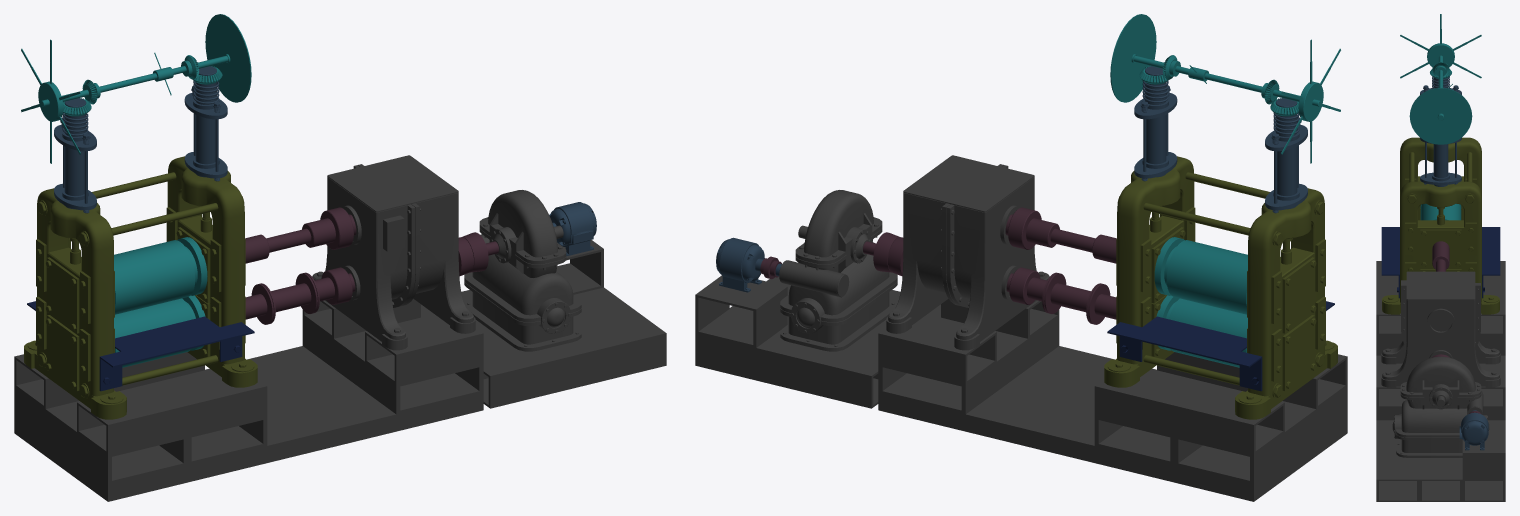
Rendered from StanNew.glb.
3 renders of one model, left to right at view 1: azimuth 30°, elevation 25°; view 2: azimuth 150°, elevation 25°; view 3: azimuth 270°, elevation 25°, orthographic. The views are drawn at different scales.
Parts seen in each view (by area): view 1: Platform, MillStand, PinionStand, Gearbox, Rolls, ScrewdownMechanism, BalancingDevice, Zashita01, Spindel2, Spindle1, ElecMotor, MasterCoupling; view 2: Platform, MillStand, PinionStand, Gearbox, Rolls, ScrewdownMechanism, BalancingDevice, Zashita01, Spindel2, Spindle1, ElecMotor, MasterCoupling; view 3: Platform, MillStand, PinionStand, Gearbox, ScrewdownMechanism, Zashita01, BalancingDevice, ElecMotor, Rolls, Spindle1.
Part boxes in pixels (bbox=[...]): Platform: bbox=[14, 240, 666, 501]; MillStand: bbox=[24, 156, 257, 419]; PinionStand: bbox=[312, 155, 475, 350]; Gearbox: bbox=[464, 190, 581, 351]; Rolls: bbox=[114, 237, 207, 367]; ScrewdownMechanism: bbox=[21, 14, 251, 163]; BalancingDevice: bbox=[54, 66, 227, 213]; Zashita01: bbox=[27, 301, 254, 391]; Spindel2: bbox=[245, 267, 355, 324]; Spindle1: bbox=[245, 207, 356, 263]; ElecMotor: bbox=[549, 202, 596, 256]; MasterCoupling: bbox=[458, 232, 498, 276]; Platform: bbox=[695, 275, 1347, 501]; MillStand: bbox=[1104, 156, 1337, 419]; PinionStand: bbox=[886, 155, 1049, 350]; Gearbox: bbox=[779, 190, 897, 351]; Rolls: bbox=[1154, 237, 1247, 367]; ScrewdownMechanism: bbox=[1110, 14, 1340, 163]; BalancingDevice: bbox=[1134, 66, 1307, 213]; Zashita01: bbox=[1107, 301, 1334, 391]; Spindel2: bbox=[1006, 267, 1116, 324]; Spindle1: bbox=[1005, 207, 1116, 263]; ElecMotor: bbox=[716, 237, 781, 292]; MasterCoupling: bbox=[863, 232, 903, 276]; Platform: bbox=[1376, 261, 1505, 501]; MillStand: bbox=[1382, 137, 1499, 314]; PinionStand: bbox=[1381, 271, 1500, 387]; Gearbox: bbox=[1392, 356, 1489, 457]; ScrewdownMechanism: bbox=[1400, 14, 1481, 144]; Zashita01: bbox=[1381, 227, 1500, 298]; BalancingDevice: bbox=[1420, 76, 1461, 186]; ElecMotor: bbox=[1459, 410, 1488, 450]; Rolls: bbox=[1420, 203, 1461, 220]; Spindle1: bbox=[1432, 241, 1449, 271].
Bounding box in the file's own units: 2.65 × 1.88 × 0.7438.
